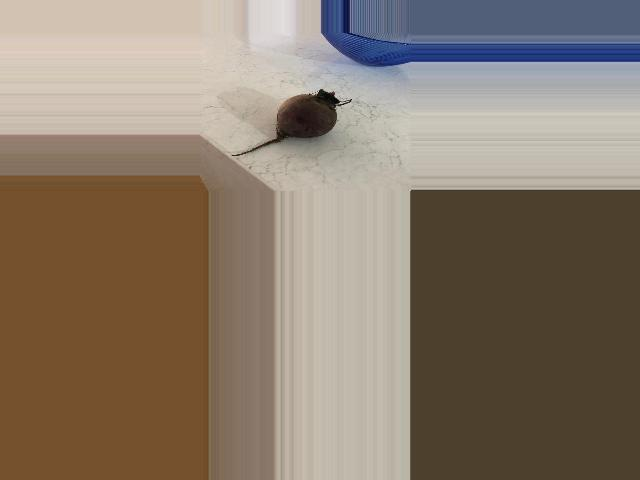beet: (231, 89, 350, 157)
